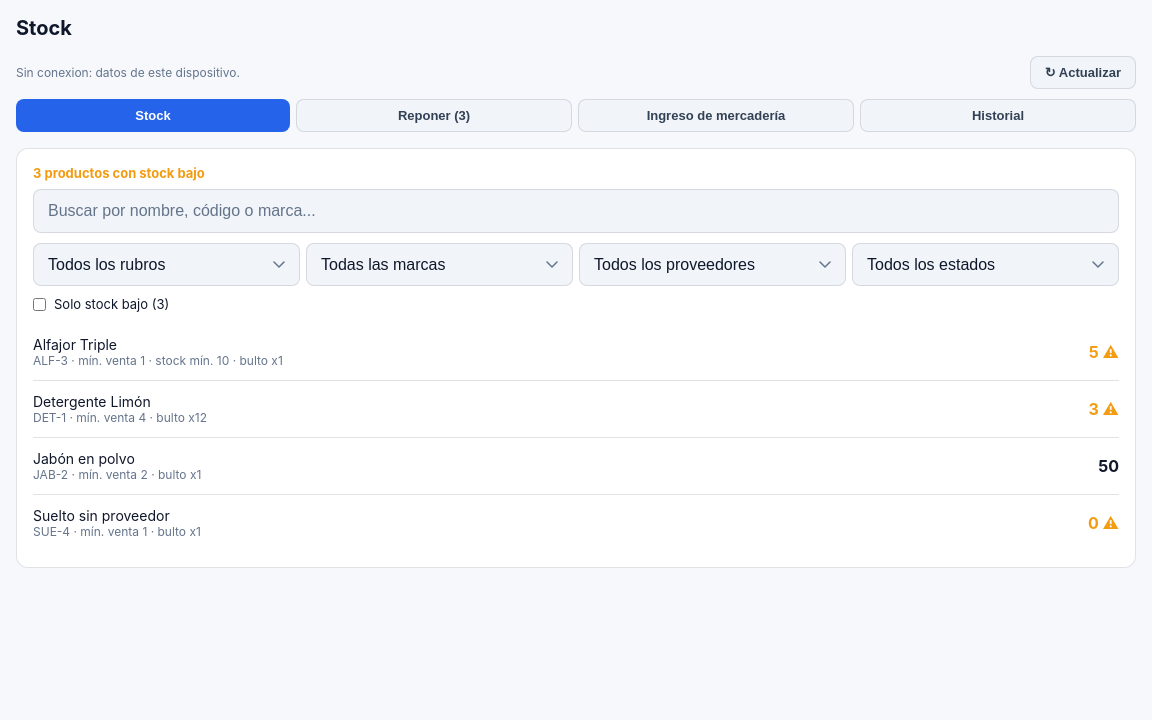
AC-STB-3 Reponer: agregar al pedido al proveedor › AC-STB-3 si el servicio falla muestra el motivo
Click the button "Reponer (3)". click: (434, 116)
box: [296,99,572,132]
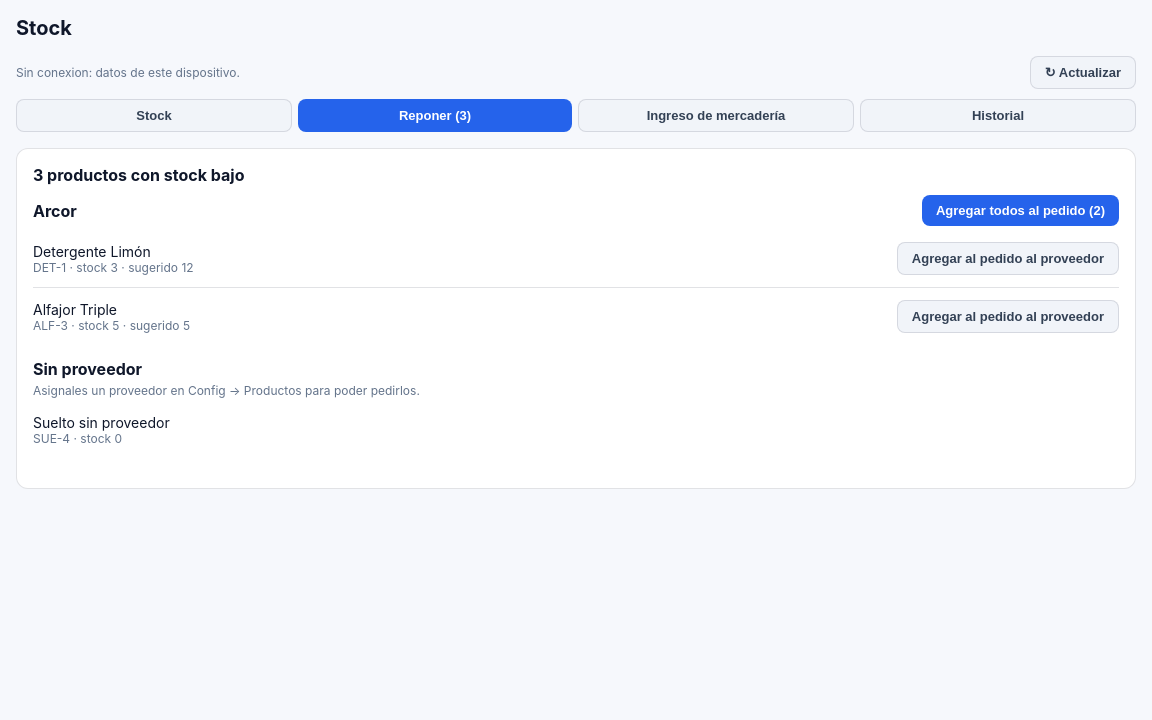
Click the button "Agregar al pedido al proveedor" in the row of "· sugerido 12". click: (1008, 258)
box: [897,242,1119,275]
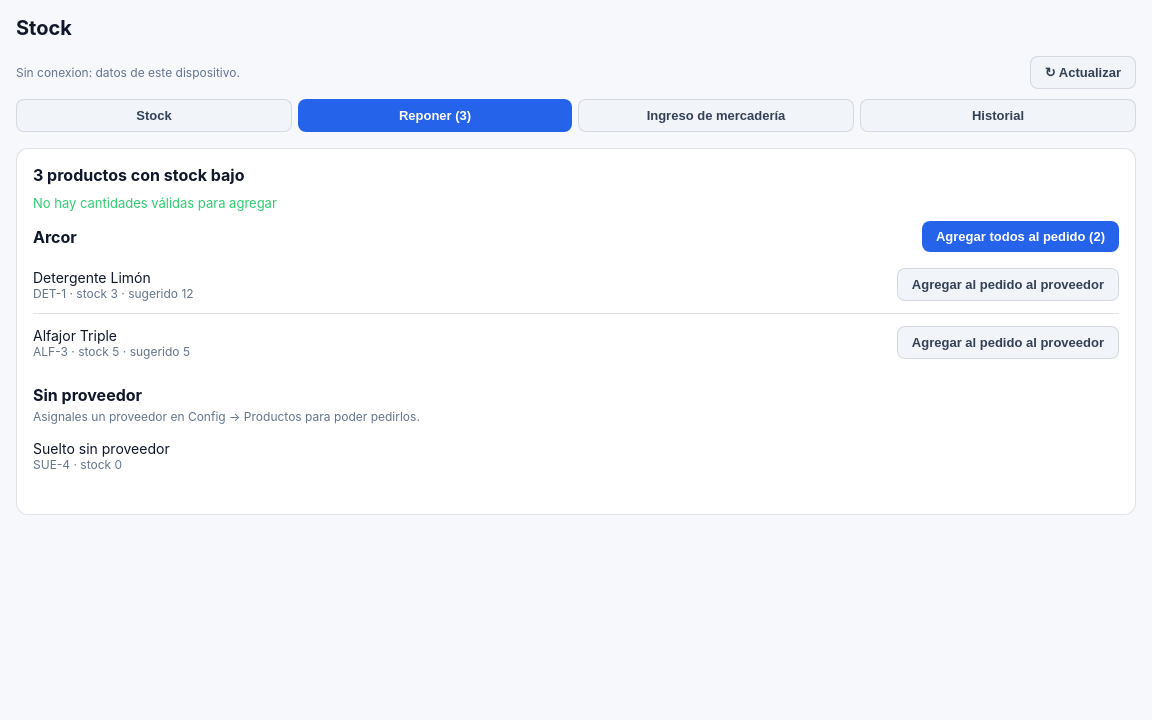
Result: the text "No hay cantidades válidas para agregar" is shown at [33,195,277,211]
